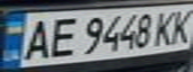4: (118, 10, 142, 52), (103, 11, 124, 53)
8: (133, 10, 157, 49)
9: (78, 12, 106, 56)
A: (18, 16, 54, 62)
E: (42, 13, 81, 60)
K: (151, 8, 178, 47), (166, 6, 193, 44)
